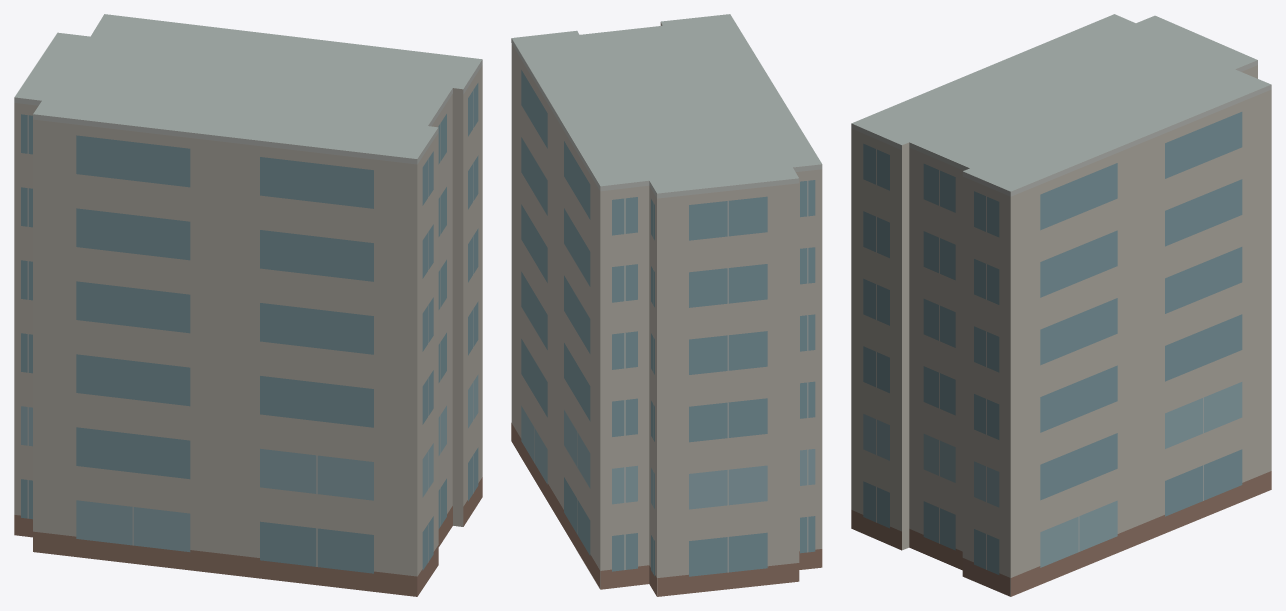
File: survey-upis-32977054.glb
3 renders of one model, left to right at view 1: azimuth 30°, elevation 25°; view 2: azimuth 150°, elevation 25°; view 3: azimuth 270°, elevation 25°, orthographic. The views are drawn at different scales.
Visible parts, largest first — view 1: survey-upis-32977054.tmp; view 2: survey-upis-32977054.tmp; view 3: survey-upis-32977054.tmp.
Boxes of the visible parts, x1,y1,x2,y2 form: survey-upis-32977054.tmp: [14, 14, 482, 596]; survey-upis-32977054.tmp: [511, 14, 822, 596]; survey-upis-32977054.tmp: [851, 14, 1271, 596].
Size of the model in its own units: 18.54 by 19.7 by 18.52.
